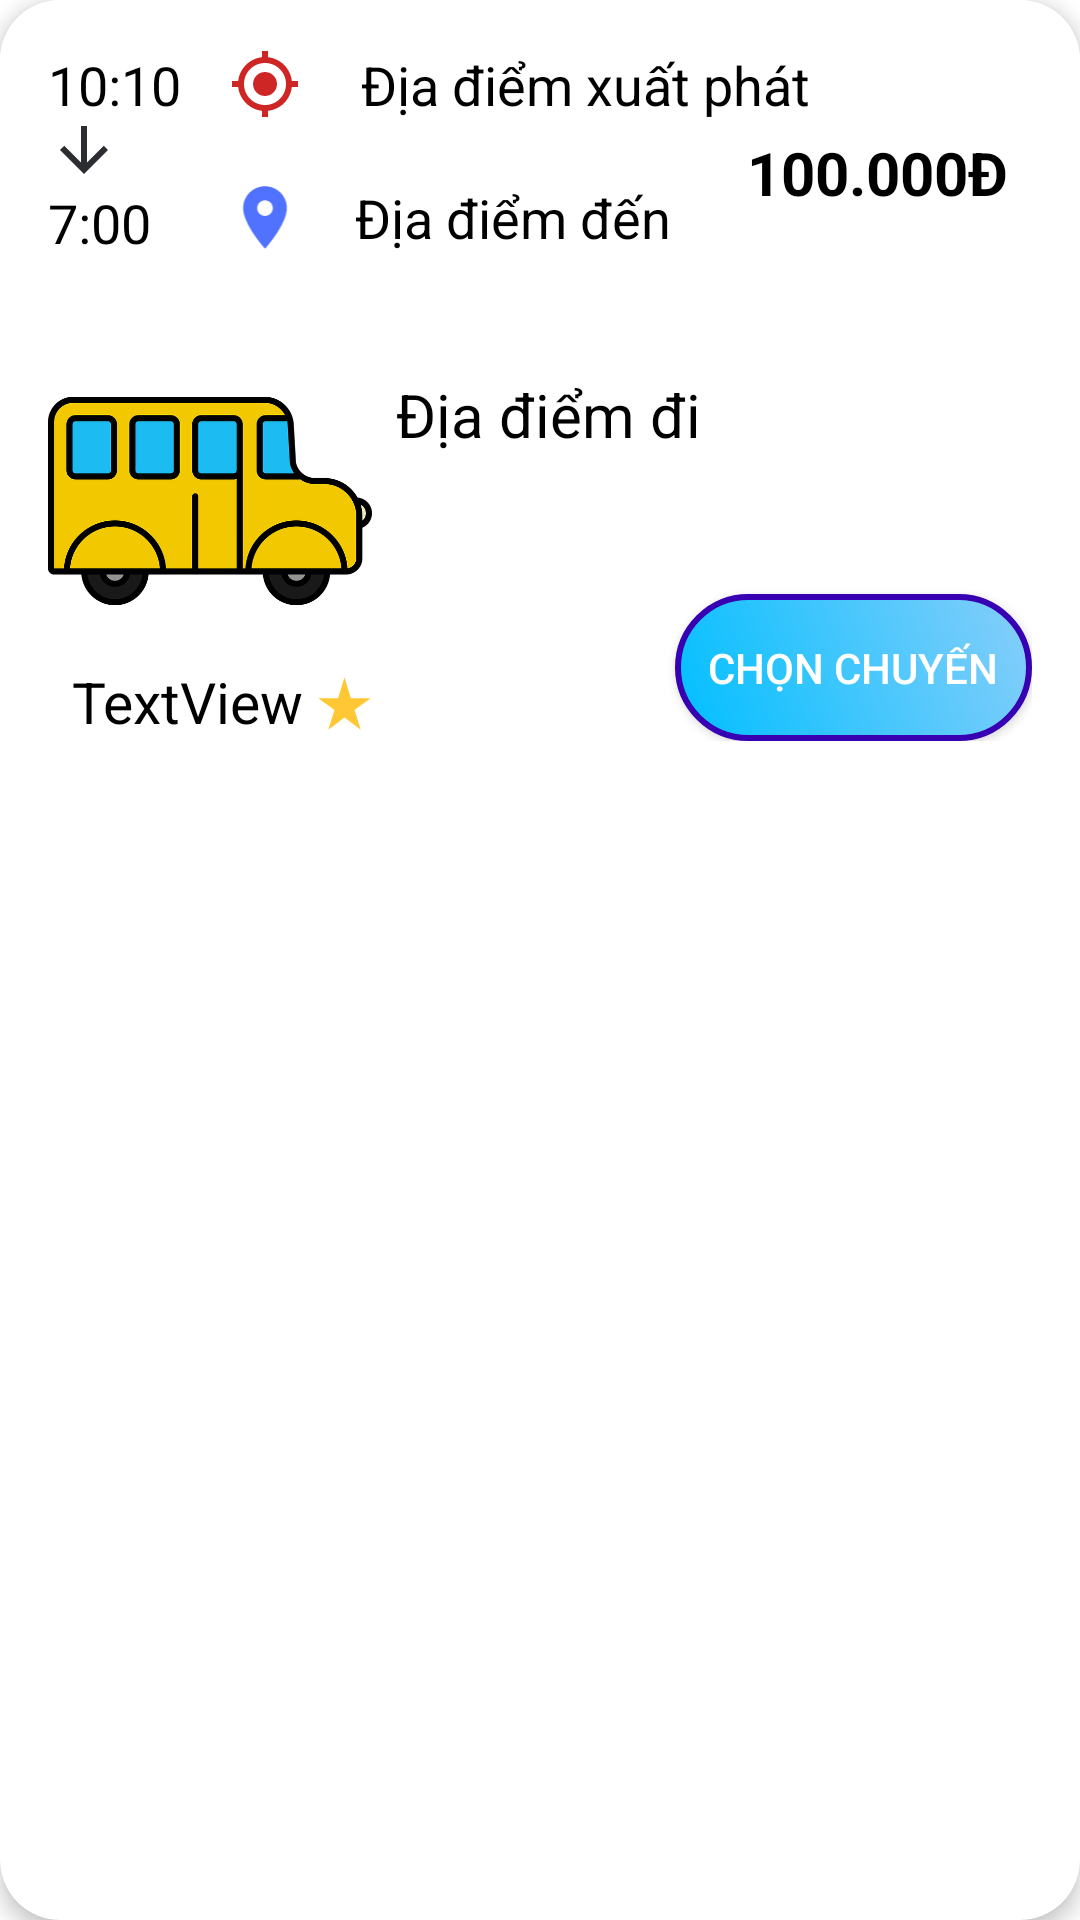

Icons on this 1080x1920 Android screen, each with the point to tap as (x,y):
arrow downward: (84,150)
bus: (210,501)
location: (265,84)
location on: (264,217)
star rate: (344,703)
